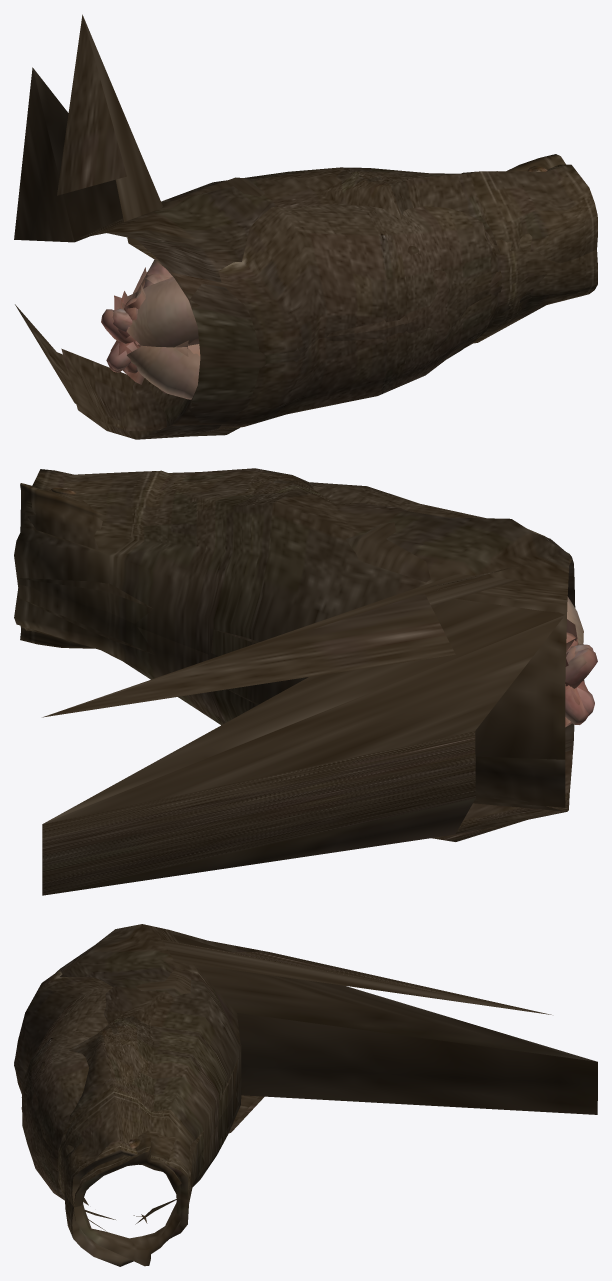
File: viewmodel_hands_british_wet.glb
The picture shows the model from 3 angles, top to bottom: view 1: azimuth 30°, elevation 25°; view 2: azimuth 150°, elevation 25°; view 3: azimuth 270°, elevation 25°; orthographic projection. The views are drawn at different scales.
Bounding box in the file's own units: 13.2 × 5.49 × 15.5.
Materials: 1 (1 with a texture image).
